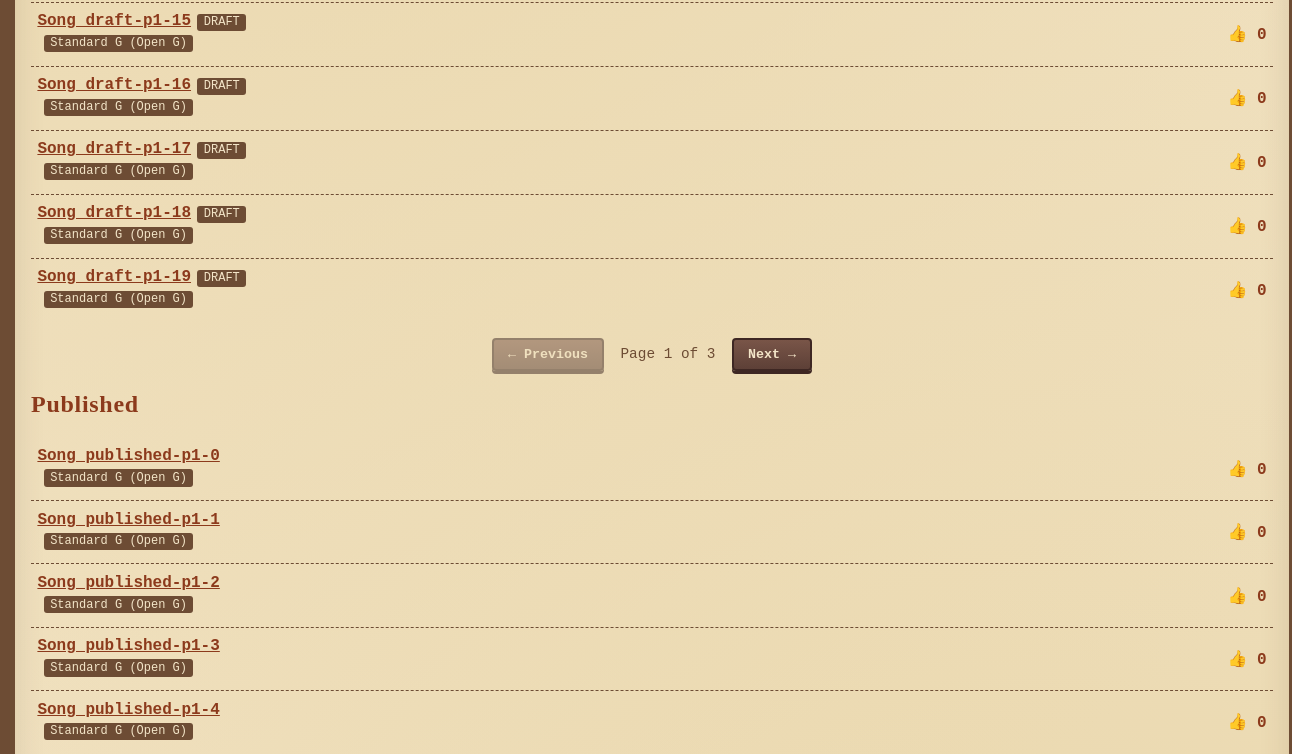
UserProfilePage › pages drafts and published tabs independently
This screenshot has width=1292, height=754.
(page scrolled)
Expected: the text "Page 1 of 3" is shown, [620,346,716,362]
Click the button "Next →".
click(772, 354)  # box [732,338,812,371]
(page scrolled)
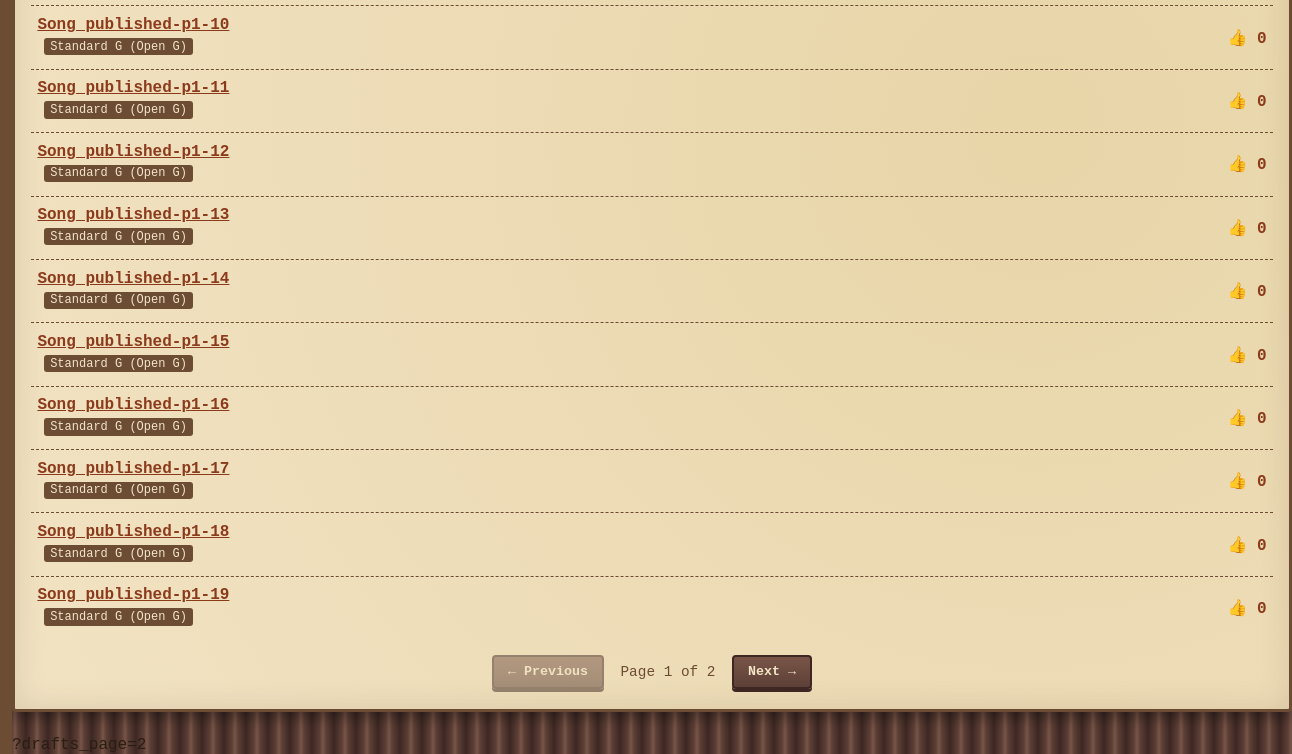
Expected: the text with test id "location" reads "?drafts_page=2", [12,736,146,753]
Click the button "Next →".
click(772, 672)  # box [732,655,812,689]
(page scrolled)
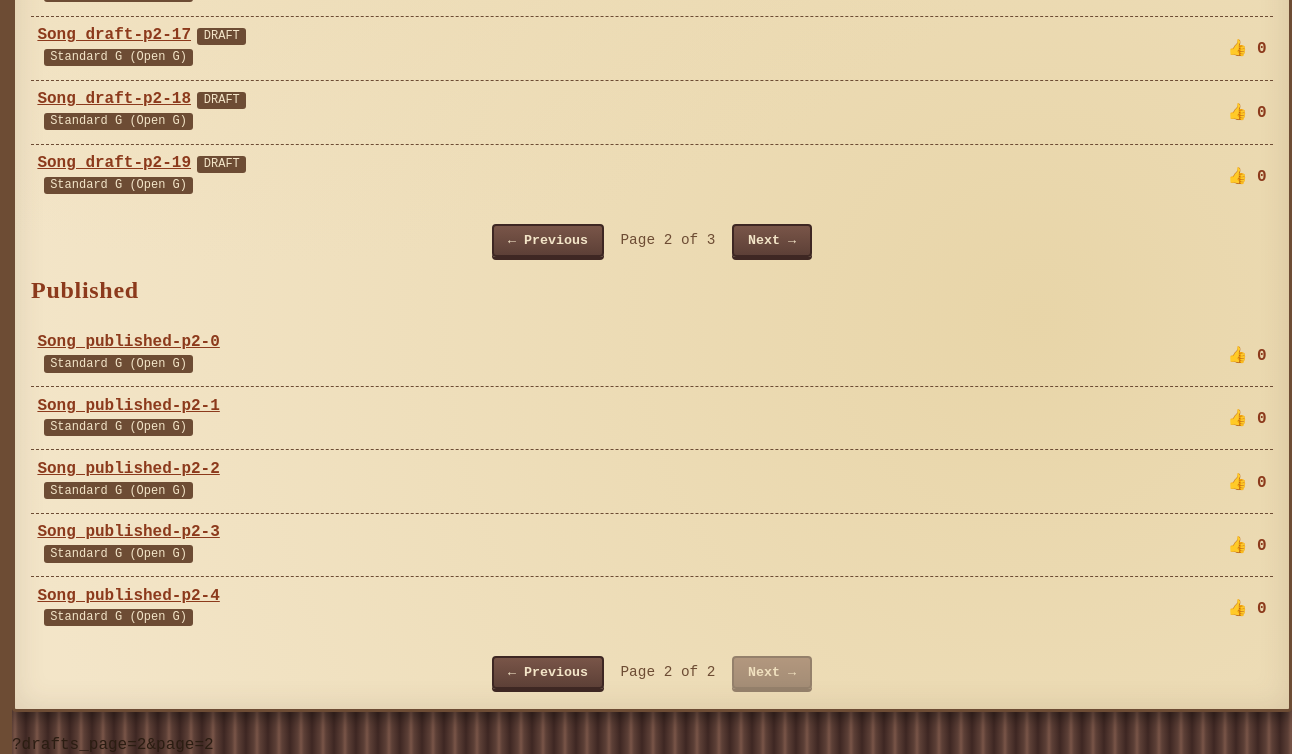
Expected: the link "Song published-p2-0" is shown, [37,333,220,351]
Expected: the text with test id "location" reads "?drafts_page=2&page=2", [12,736,214,753]
